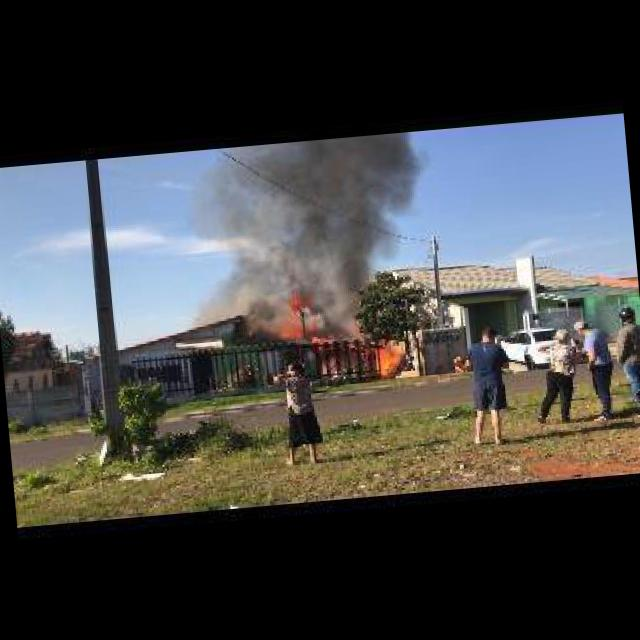Fire: (270, 275, 334, 344), (374, 340, 410, 382)
Smoke: (200, 128, 432, 292)
